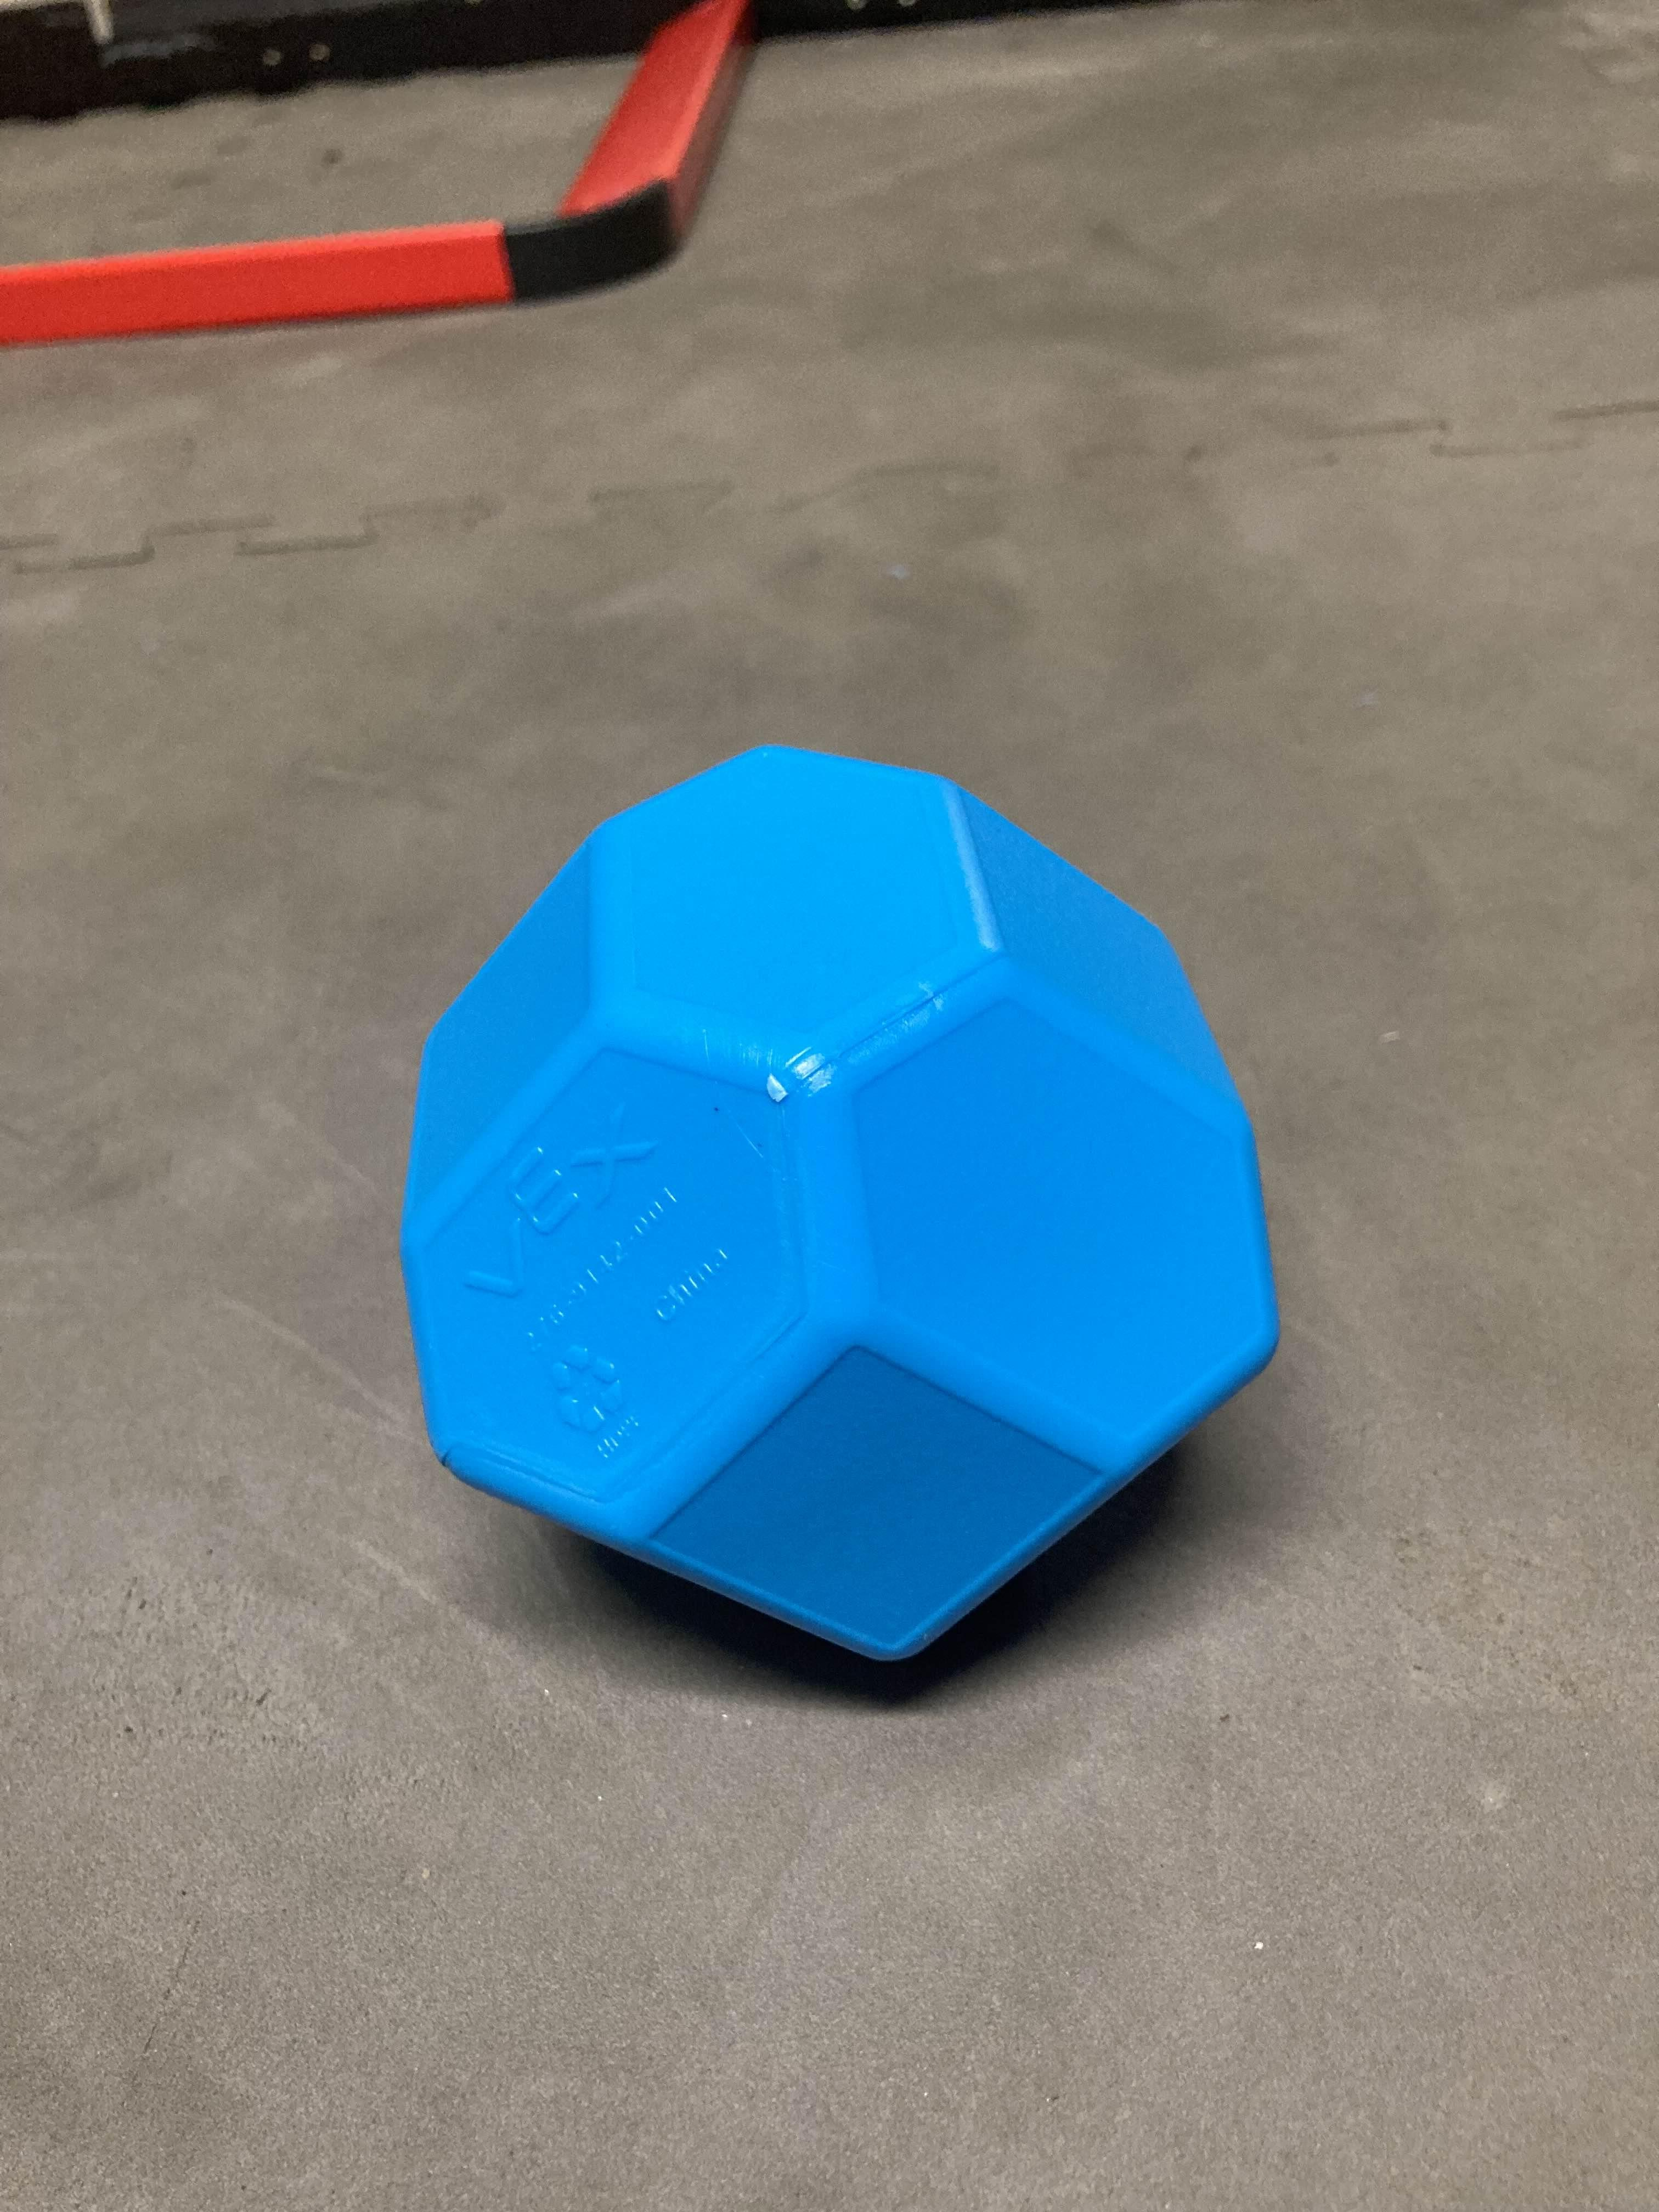Vex-Pieces-BLUE: (397, 747, 1283, 1677)
